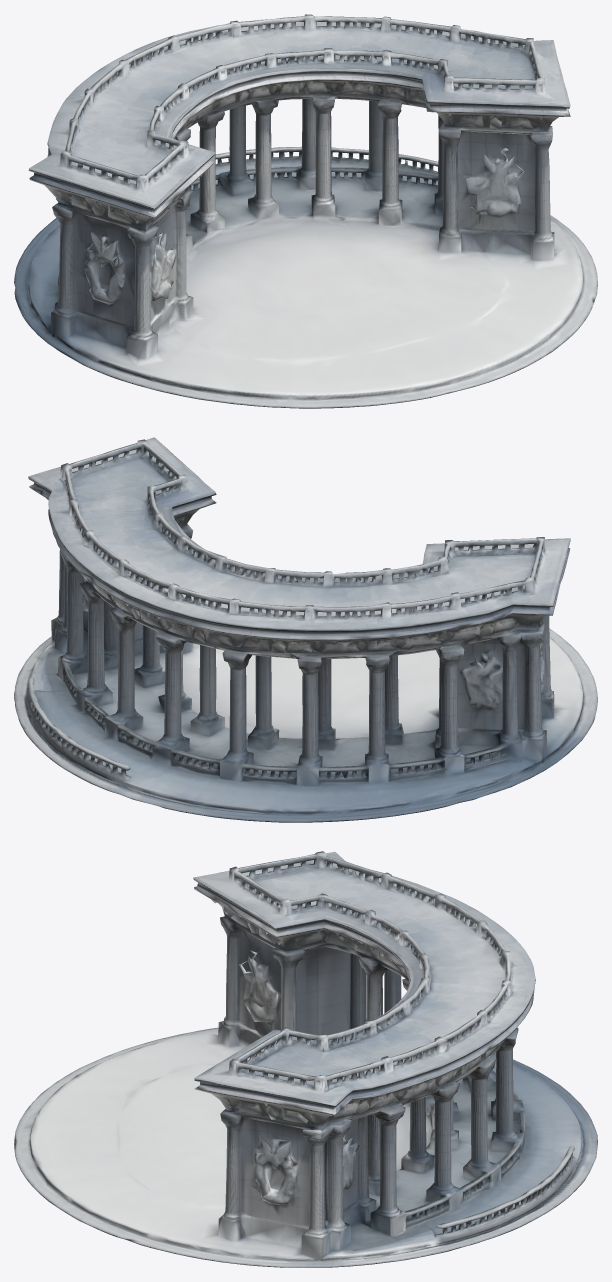
Rendered from khu-global-amphitheatre-colonnade.glb.
The picture shows the model from 3 angles, top to bottom: view 1: azimuth 30°, elevation 25°; view 2: azimuth 150°, elevation 25°; view 3: azimuth 270°, elevation 25°; orthographic projection.
Visible parts, largest first — view 1: tripo_node_872303ed-9cc5-43bb-a22a-5c91f05e982b; view 2: tripo_node_872303ed-9cc5-43bb-a22a-5c91f05e982b; view 3: tripo_node_872303ed-9cc5-43bb-a22a-5c91f05e982b.
Part boxes in pixels (bbox=[...]): tripo_node_872303ed-9cc5-43bb-a22a-5c91f05e982b: bbox=[14, 14, 597, 408]; tripo_node_872303ed-9cc5-43bb-a22a-5c91f05e982b: bbox=[14, 437, 597, 822]; tripo_node_872303ed-9cc5-43bb-a22a-5c91f05e982b: bbox=[14, 851, 597, 1267].
Bounding box in the file's own units: 1 × 0.3352 × 0.9752.
1 material, 1 textured.
